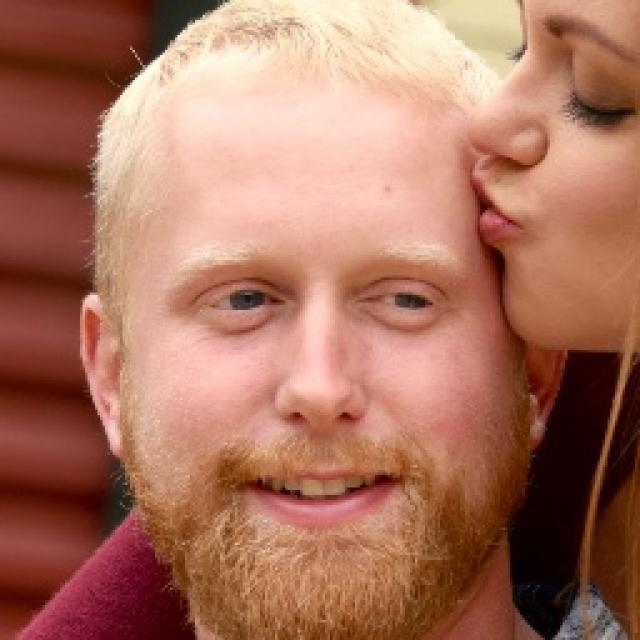earlobe: (79, 294, 124, 460), (524, 341, 568, 451)
